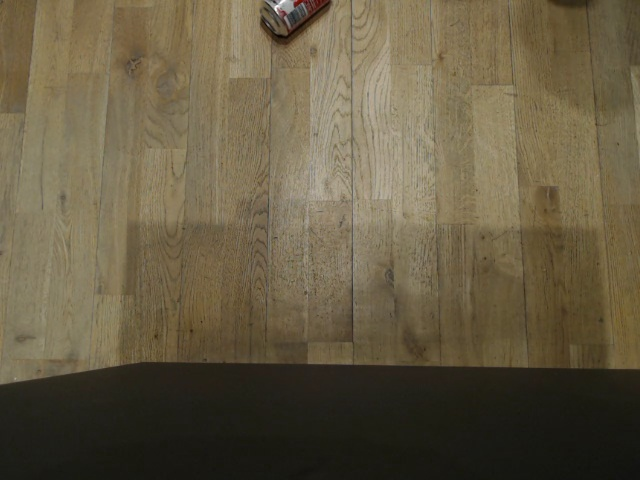cola: (255, 0, 332, 37)
